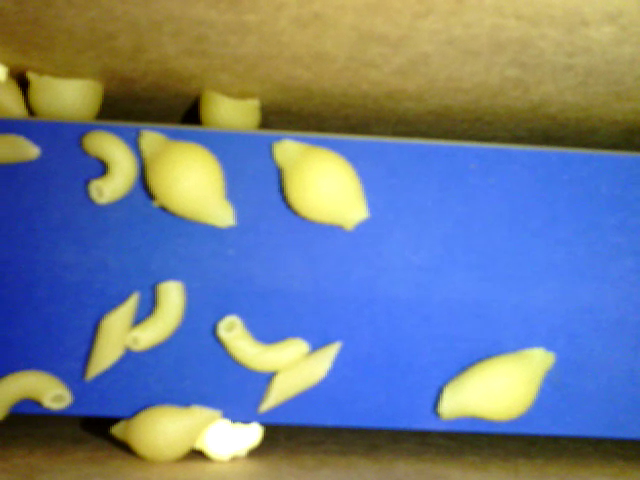elbow: (214, 315, 311, 373), (80, 129, 139, 205), (127, 279, 186, 354), (1, 369, 73, 421)
penne: (254, 339, 343, 414), (82, 294, 137, 379)
shell: (137, 128, 236, 228), (435, 344, 556, 423), (272, 138, 371, 232), (107, 401, 224, 462), (25, 69, 102, 119), (199, 87, 260, 128)
